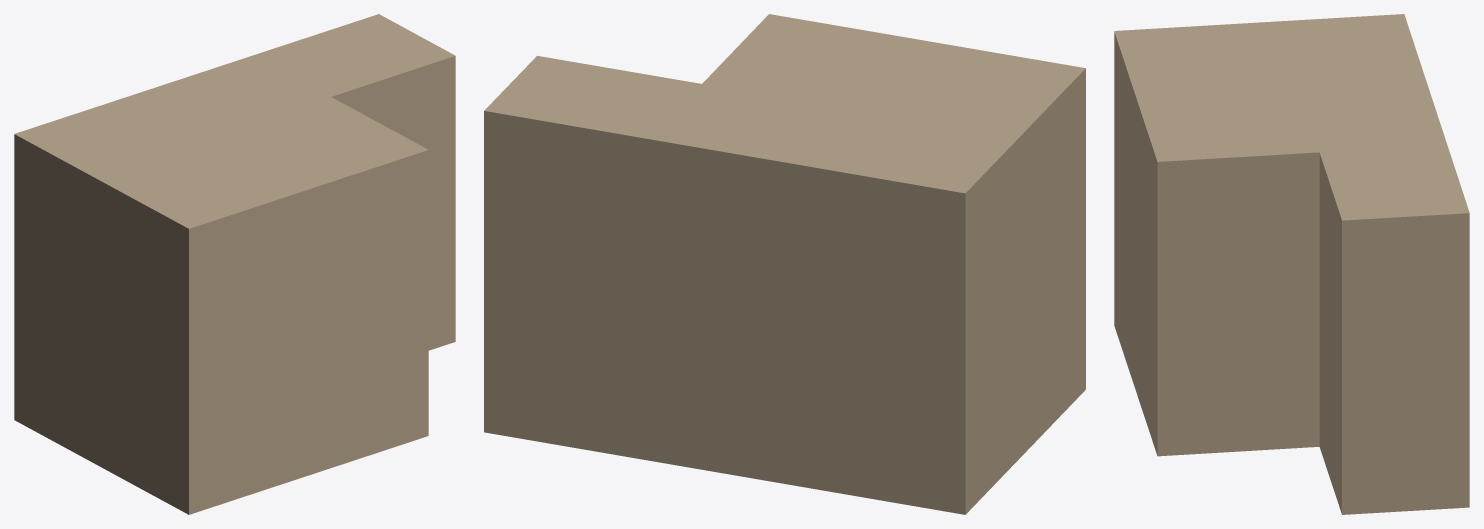
Rendered from bld_100469393.dae.
3 views of the same model, side by side, from view 1: azimuth 30°, elevation 25°; view 2: azimuth 150°, elevation 25°; view 3: azimuth 270°, elevation 25° (orthographic). The views are drawn at different scales.
Visible parts, largest first — view 1: bld_100469393; view 2: bld_100469393; view 3: bld_100469393.
Boxes of the visible parts, x1,y1,x2,y2 form: bld_100469393: [14, 14, 455, 514]; bld_100469393: [484, 14, 1085, 514]; bld_100469393: [1114, 14, 1469, 514].
Bounding box in the file's own units: 12.04 × 8.76 × 8.
